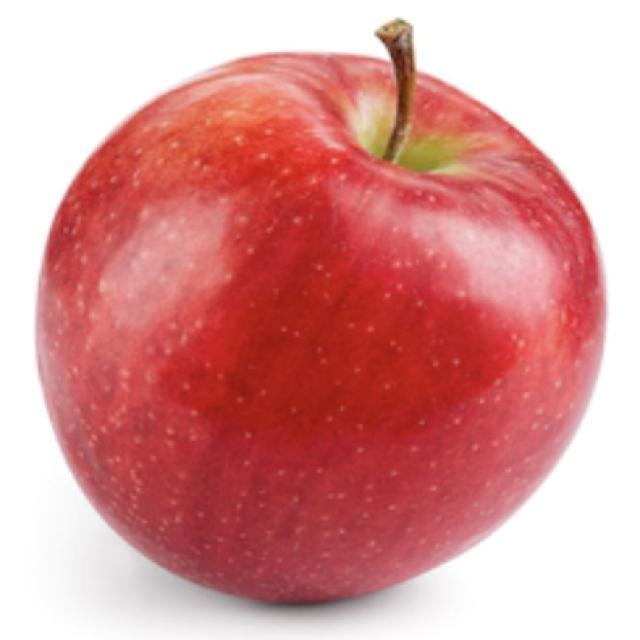Apple: (33, 17, 608, 606)
